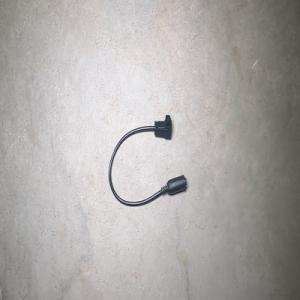Wire: (108, 114, 187, 206)
